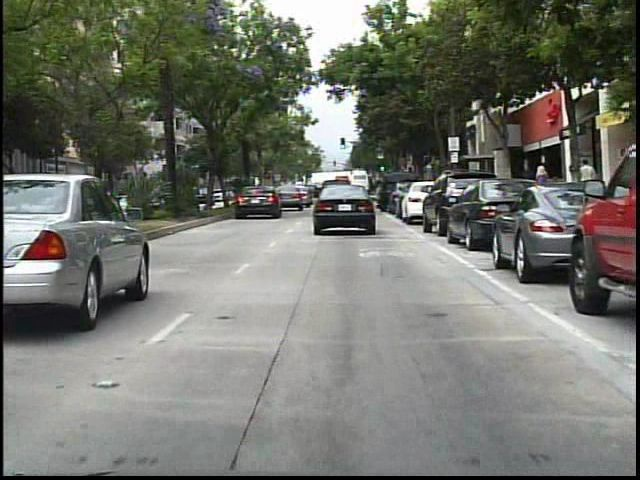person: (513, 159, 538, 222), (529, 162, 556, 219), (575, 154, 598, 214)
